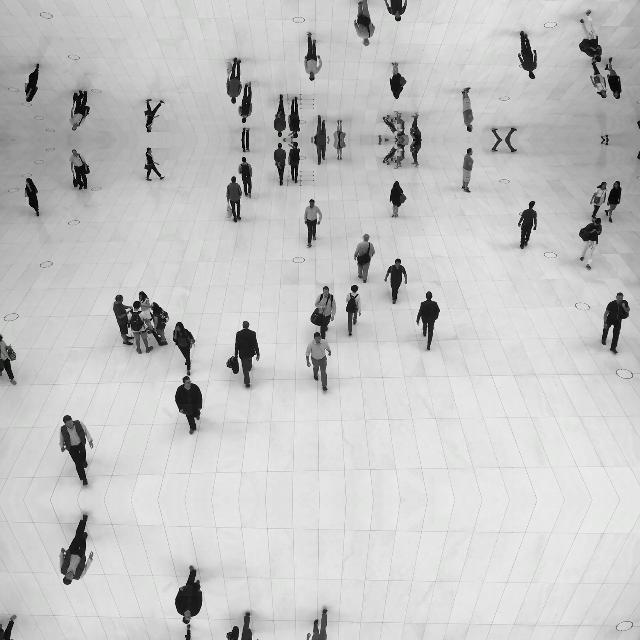person: (58, 415, 94, 487), (58, 513, 94, 585), (601, 292, 631, 354), (234, 320, 260, 388), (175, 375, 203, 435), (175, 565, 203, 625), (416, 290, 442, 352), (306, 332, 332, 392), (126, 300, 154, 354), (578, 217, 604, 270), (578, 11, 604, 64), (173, 322, 197, 376), (315, 284, 337, 342), (113, 294, 135, 346), (384, 258, 408, 304), (354, 233, 376, 283), (353, 0, 376, 47), (518, 200, 538, 250), (518, 30, 538, 80), (304, 199, 322, 249), (304, 31, 322, 81), (305, 607, 332, 640), (150, 302, 170, 346), (70, 148, 90, 192), (70, 88, 90, 132), (345, 284, 361, 336), (0, 334, 16, 385), (225, 176, 242, 224), (225, 56, 242, 104), (144, 146, 166, 182), (144, 98, 166, 134), (138, 290, 154, 338), (589, 182, 609, 220), (589, 60, 609, 98), (604, 180, 622, 222), (604, 58, 622, 100), (234, 612, 260, 640), (389, 181, 407, 219), (389, 61, 407, 99), (24, 177, 40, 217), (24, 63, 40, 103), (288, 95, 302, 138), (239, 156, 253, 198), (288, 142, 302, 184), (239, 82, 253, 124), (462, 147, 474, 193), (462, 87, 474, 133), (274, 142, 286, 186), (384, 0, 408, 22), (274, 94, 286, 138), (314, 140, 330, 166), (0, 614, 16, 640), (314, 114, 330, 140), (173, 623, 197, 640), (491, 140, 517, 154), (491, 126, 517, 140), (410, 140, 422, 168), (410, 112, 422, 140), (394, 142, 406, 168), (394, 112, 406, 138), (334, 140, 346, 160), (334, 120, 346, 140), (241, 140, 251, 152), (241, 128, 251, 140)
